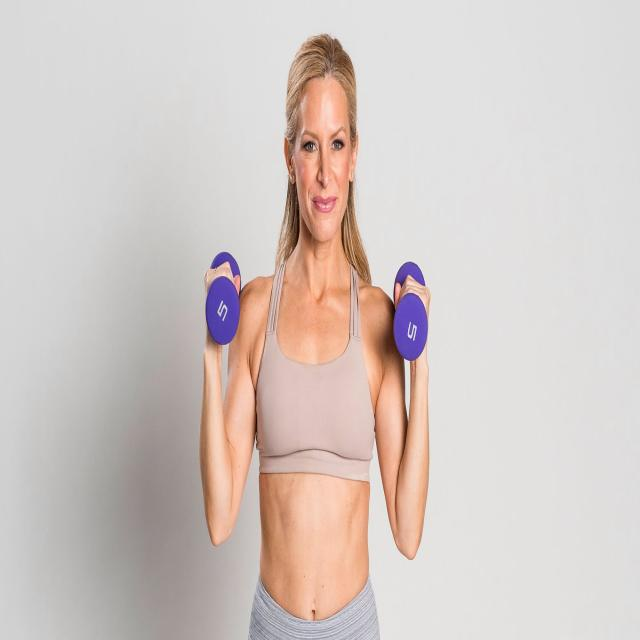adult: (198, 32, 430, 640)
